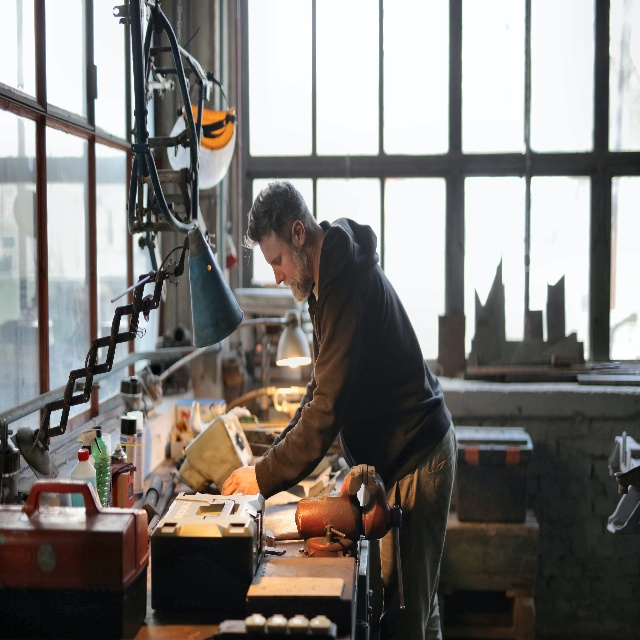Sin_guantes: (221, 465, 262, 496)
